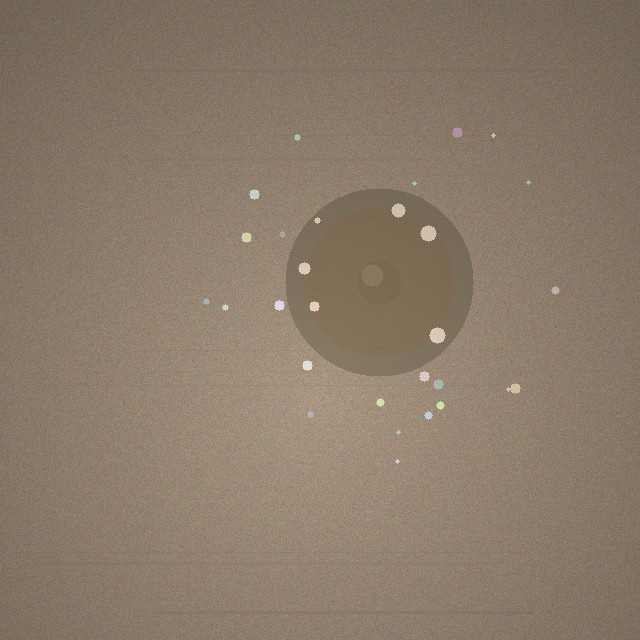overburn: (285, 188, 473, 376)
